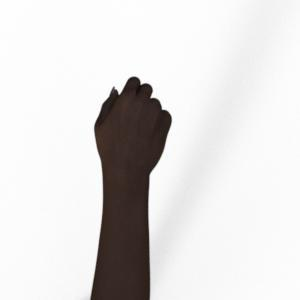rock: (91, 77, 171, 300)
